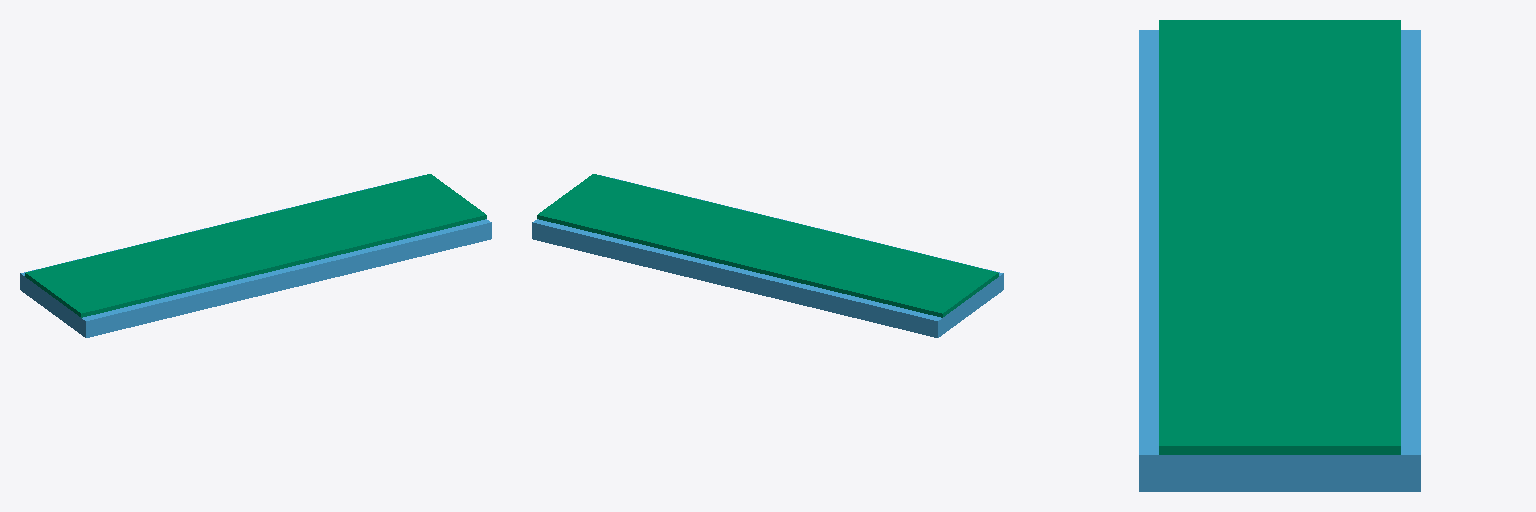
robot.urdf — prismatic_box:
<?xml version="1.0" encoding="UTF-8"?>
<robot name="prismatic_box">
	
	<gazebo>
		<plugin name="gazebo_ros_control" filename="libgazebo_ros_control.so">
			<robotNamespace>/prismatic_box_controller</robotNamespace>
			<robotSimType>gazebo_ros_control/DefaultRobotHWSim</robotSimType>
			<legacyModeNS>true</legacyModeNS>
		</plugin>
	</gazebo>

	<link name="world"/>

	<link name="world_box">
		<inertial>
			<mass value="5000000" />
			<origin xyz="0 0 0.0" />
			<inertia ixx="83333333" ixy="0.0" ixz="0.0" iyy="1043333333" iyz="0.0" izz="1123333333" /> 
			<!--Ixx = 1/12/m*(y^2+z^2)-->
		</inertial>

		<visual>
			<origin xyz="0 0 0"  />
			<geometry>
				<box size="50 14 2" />
			</geometry>
		</visual>

		<collision>
			<origin xyz="0 0 0" />
			<geometry>
				<box size="50 14 2" />
			</geometry>
			<!--surface>
				<friction>
				  <ode>
					<mu>0.0</mu>
					<mu2>0.0</mu2>
				  </ode>
				</friction>
			</surface-->
		</collision>
	</link>	
	<gazebo reference="world_box">
		<material>Gazebo/Gray</material>
	</gazebo>

	<joint name="world_box_joint" type="fixed">
		<origin xyz="0 0 1.0" rpy="0 0 0" />
		<parent link="world"/>
		<child link="world_box" />
	</joint>

	<link name="slide_box">
		<inertial>
			<mass value="500000" />
			<origin xyz="0 0 0" />
			<inertia ixx="6010416" ixy="0.0" ixz="0.0" iyy="104177083" iyz="0.0" izz="110166666" /> 
			<!--Ixx = 1/12/m*(y^2+z^2)-->
		</inertial>

		<visual>
			<origin xyz="0 0 0" />
			<geometry>
				<box size="50 12 0.5" />
			</geometry>
		</visual>

		<collision>
			<origin xyz="0 0 0" />
			<geometry>
				<box size="50 12 0.5" />
			</geometry>
			<!--surface>
				<friction>
				  <ode>
					<mu>0.0</mu>
					<mu2>0.0</mu2>
				  </ode>
				</friction>
			</surface-->
		</collision>
	</link>	
	<gazebo reference="slide_box">
		<material>Gazebo/Blue</material>
	</gazebo>

	<joint name="slide_box_joint" type="fixed">
		<origin xyz="0 0 1.25" rpy="0 0 0" />
		<parent link="world_box"/>
		<child link="slide_box" />
	</joint>

	<link name="box">
        <inertial>
			<mass value="10000" />
			<origin xyz="0 0 0" />
			<inertia ixx="166666.66666667" ixy="0.0" ixz="0.0" iyy="166666.66666667" iyz="0.0" izz="166666.66666667" /> 
			<!--Ixx = 1/12/m*(y^2+z^2)-->
        </inertial>

		<visual name='visual'>
          <geometry>
            <!--mesh>
              <uri>model://granite_dell_terrain/pbr-less-1.dae</uri>
            </mesh-->
			<mesh filename="package://gazebo_sim_models/models/cube/cube.dae"/>
          </geometry>
        </visual>

        <collision name='collision'>
		  <origin xyz="0 0 0" />
          <surface>
				<friction>
				  <ode>
					<mu>0.6</mu>
					<mu2>0.6</mu2>
				  </ode>
				  <bullet>
					<friction>0.60</friction>
					<friction2>0.60</friction2>
					<rolling_friction>0.6</rolling_friction>
				  </bullet>
				</friction>
				<contact>
					<ode>
						<min_depth>0.003</min_depth>
					</ode>
				</contact>
				<bounce>
            		<restitution_coefficient>0.9</restitution_coefficient>
            		<threshold>0.1</threshold>
          		</bounce>
		  </surface>
          <geometry>
            <mesh filename="package://gazebo_sim_models/models/cube/cube.dae"/>
          </geometry>
        </collision>
	</link>

	<gazebo reference="box">
		<material>simple_terrain</material>
		<mu1>0.6</mu1>
		<mu2>0.6</mu2>
		<minDepth>0.0001</minDepth>
		<maxContacts>10</maxContacts>
	</gazebo>

	<joint name="box_joint" type="prismatic">
		<origin xyz="0 0 5.2" rpy="0 0 0" />
		<parent link="slide_box"/>
		<child link="box" />
        <xis xyz = "1 0 0"/>
		<limit effort="100000000" lower="-25" upper="25" velocity="200" />
	</joint>

	

    <transmission name="tran1">
        <type>transmission_interface/SimpleTransmission</type>
        <joint name="box_joint">
            <hardwareInterface>hardware_interface/EffortJointInterface</hardwareInterface>
        </joint>
        <actuator name="motor1">
            <hardwareInterface>hardware_interface/EffortJointInterface</hardwareInterface>
            <mechanicalReduction>1</mechanicalReduction>
        </actuator>
    </transmission>


</robot>

--- What the picture shows (computed from the rendered views, not written in the file) ---
The picture shows the robot from 3 angles, left to right: view 1: azimuth 30°, elevation 25°; view 2: azimuth 150°, elevation 25°; view 3: azimuth 270°, elevation 25°; orthographic projection.
Model prismatic_box with 4 links and 3 joints (1 prismatic, 2 fixed), rooted at world, posed all joints at 0.
Links seen in each view (by area): view 1: slide_box, world_box; view 2: slide_box, world_box; view 3: slide_box, world_box.
Boxes of the visible links, x1=… form: slide_box: x1=25, y1=174, x2=486, y2=317; world_box: x1=20, y1=175, x2=491, y2=337; slide_box: x1=537, y1=174, x2=998, y2=317; world_box: x1=532, y1=175, x2=1003, y2=337; slide_box: x1=1159, y1=20, x2=1400, y2=454; world_box: x1=1139, y1=30, x2=1420, y2=491.
Bounding box of the posed robot: 50 × 14 × 2.5 m (x, y, z).
0 mesh visuals loaded from 1 distinct referenced files (none loaded); not drawn: 1 (reference not matched to a file when rendering).
